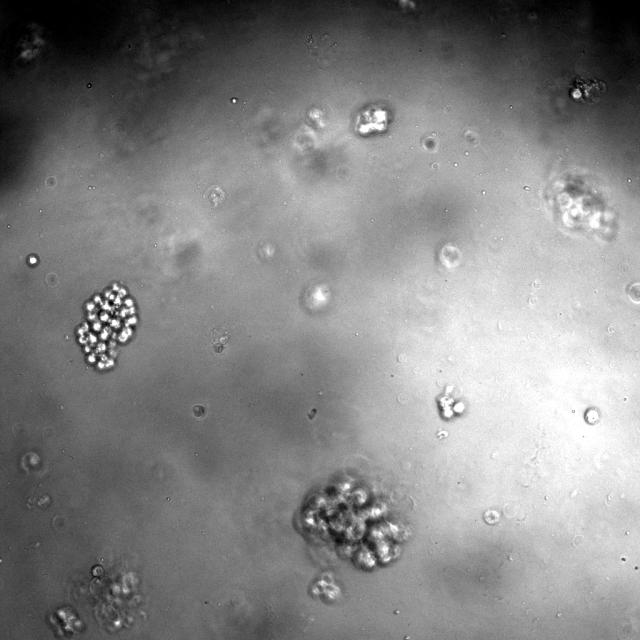organoid: (292, 468, 411, 604), (74, 282, 138, 372), (544, 172, 618, 240), (72, 564, 143, 632), (353, 101, 392, 137), (48, 605, 84, 638), (436, 385, 465, 420), (569, 76, 605, 103), (210, 327, 229, 354), (584, 406, 601, 425), (626, 281, 639, 304), (192, 404, 206, 419), (484, 510, 499, 524), (422, 137, 437, 151)
